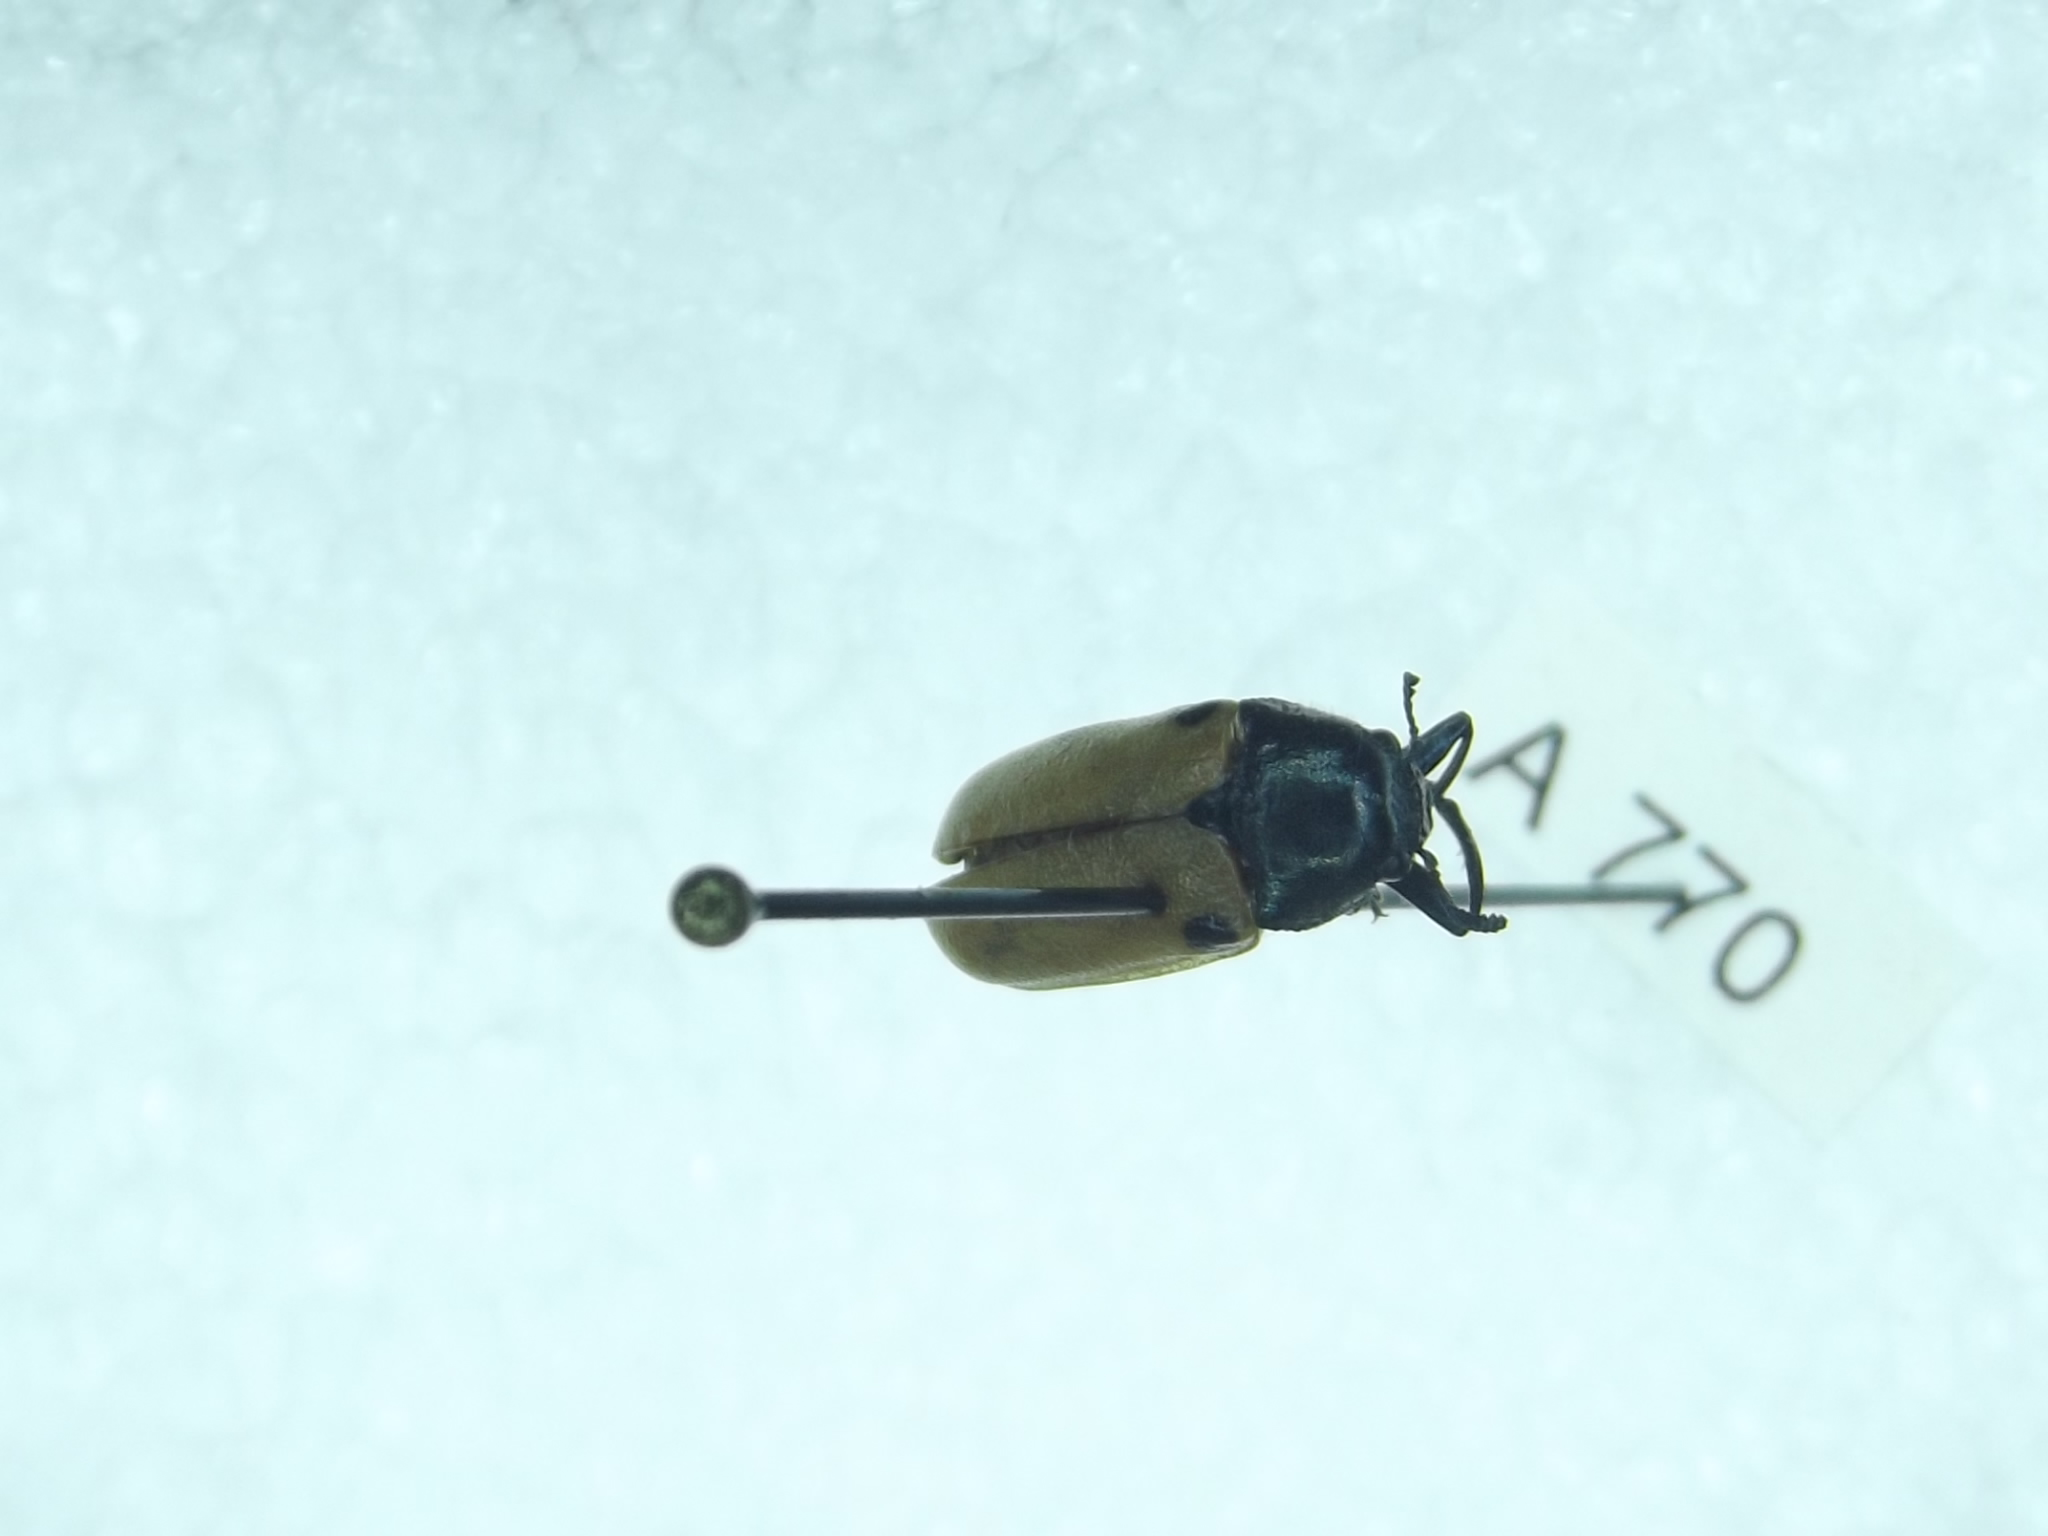Labidostomis_propinqua: (911, 666, 1542, 999)
